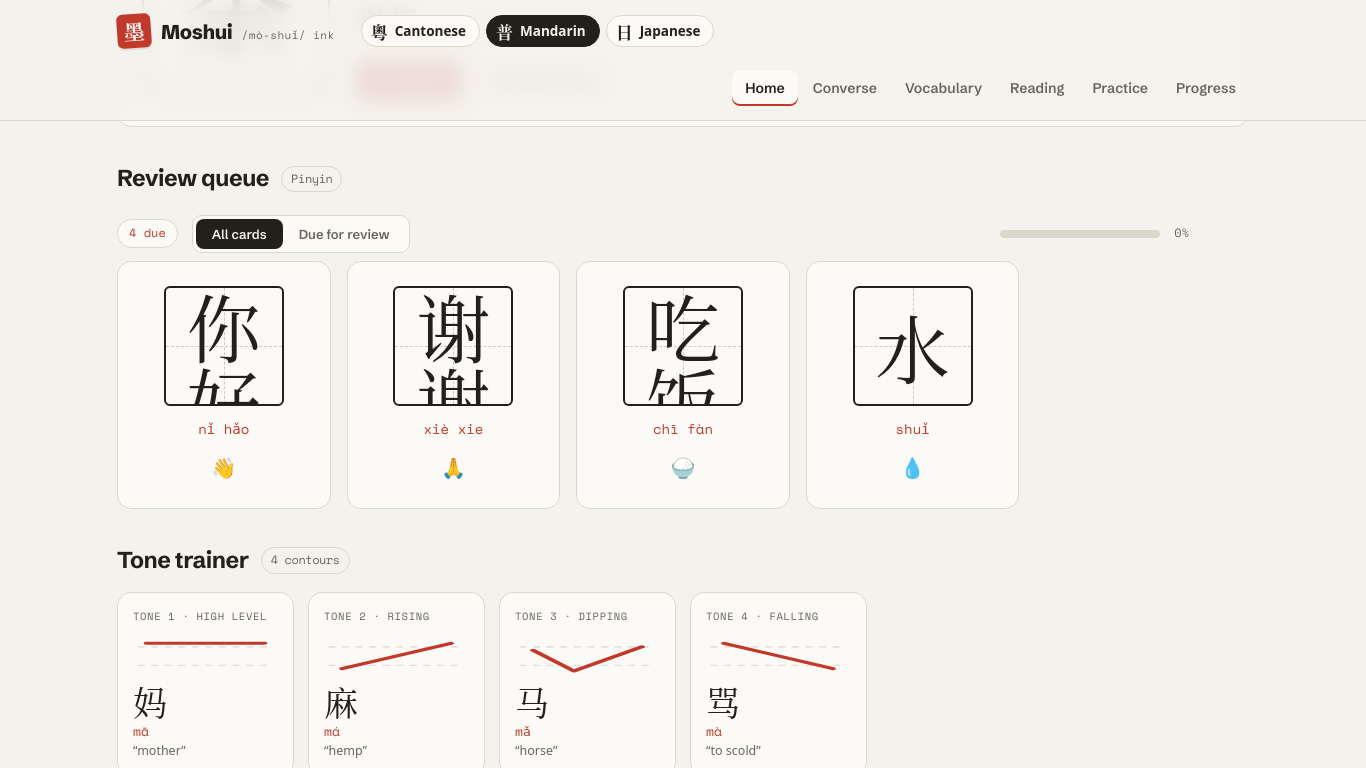
Test: spaced repetition (T3) › promotes a card's box when graded 'Got it'
(page scrolled)
Click the button with aria-label "Flashcard".
click(224, 385)  # box [117,261,331,509]
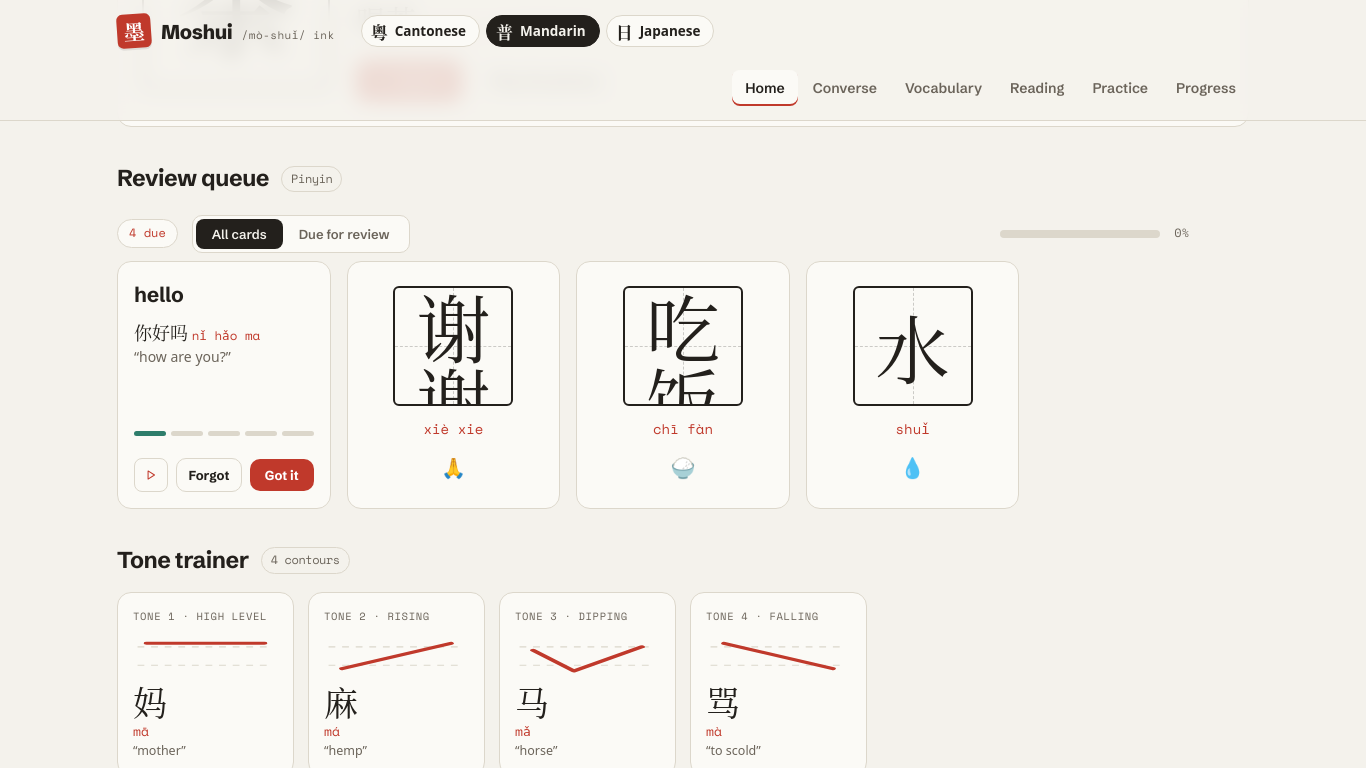
Click the button "Got it".
click(282, 475)  # box [250,459,314,491]
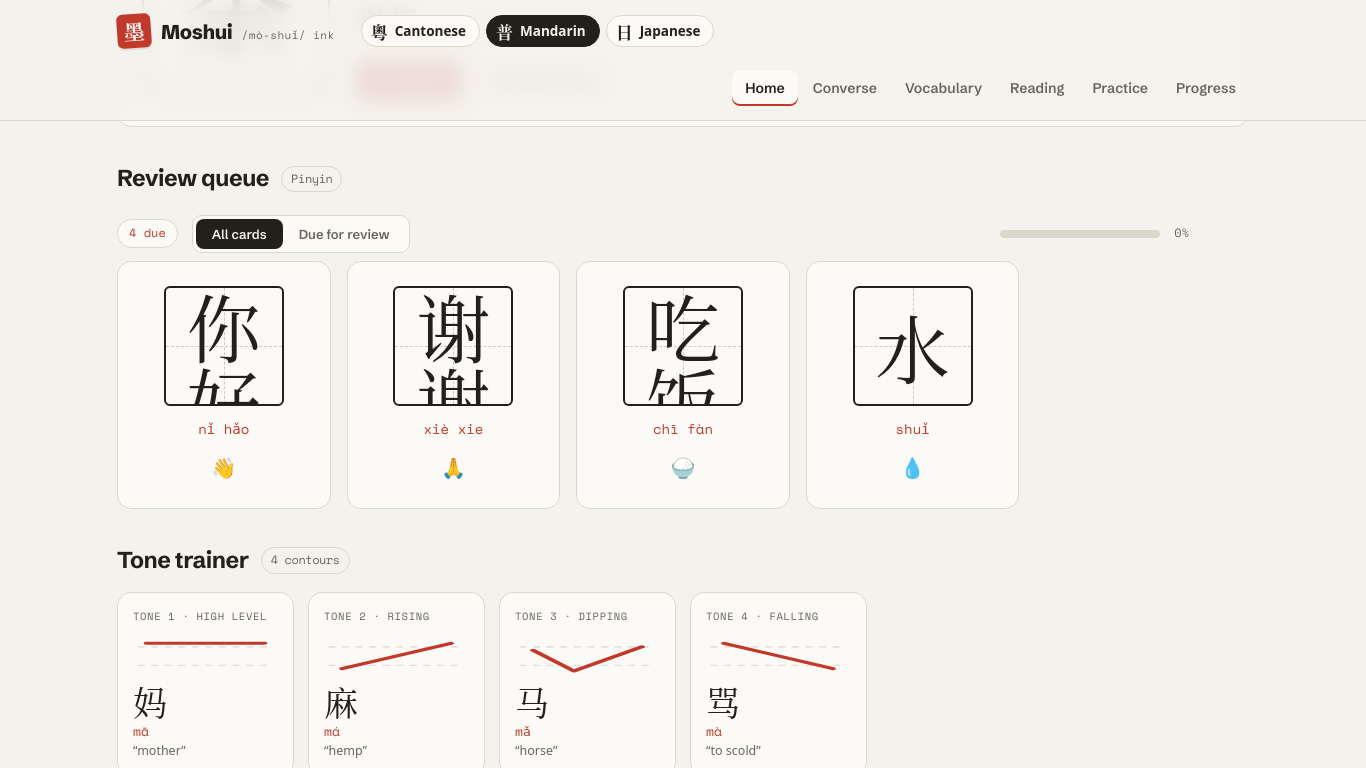
Result: the picture named "Leitner box 2 of 5" is shown at [134,431,314,436]
